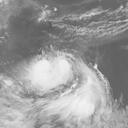cyclone: (21, 50, 99, 120)
